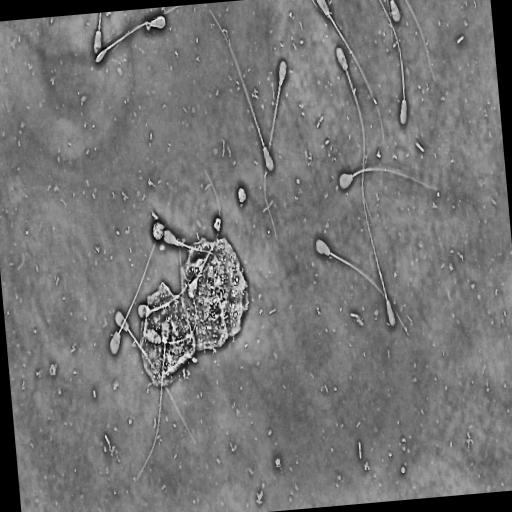coiled-tail: (146, 22, 152, 27)
dirt-particles: (137, 232, 252, 392), (151, 215, 166, 243), (235, 185, 248, 209), (212, 214, 222, 235)
normal: (114, 308, 199, 449), (206, 7, 276, 176), (314, 237, 411, 339), (315, 0, 385, 141), (108, 239, 158, 358), (361, 175, 397, 329), (137, 320, 169, 479), (94, 6, 179, 65), (147, 249, 197, 344), (263, 58, 288, 240), (187, 171, 221, 298), (378, 0, 409, 127), (334, 45, 366, 168), (137, 269, 196, 319), (338, 166, 442, 194), (145, 14, 167, 33)
